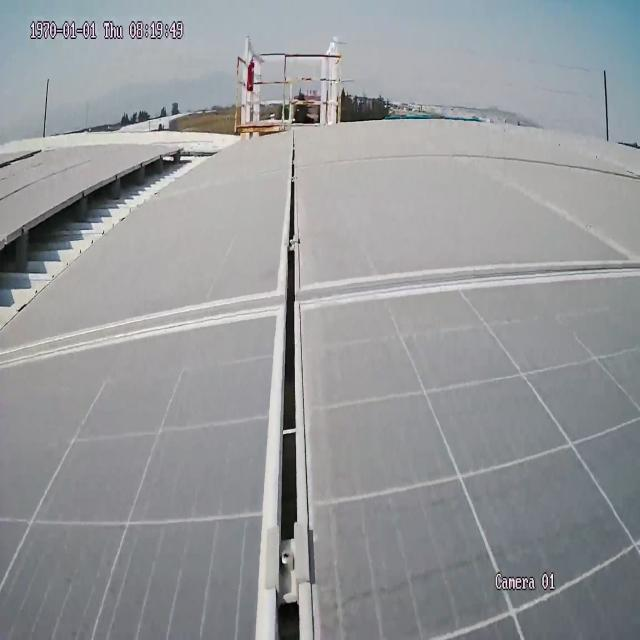interior panel: (0, 131, 623, 638)
outher panel: (0, 152, 212, 336)
